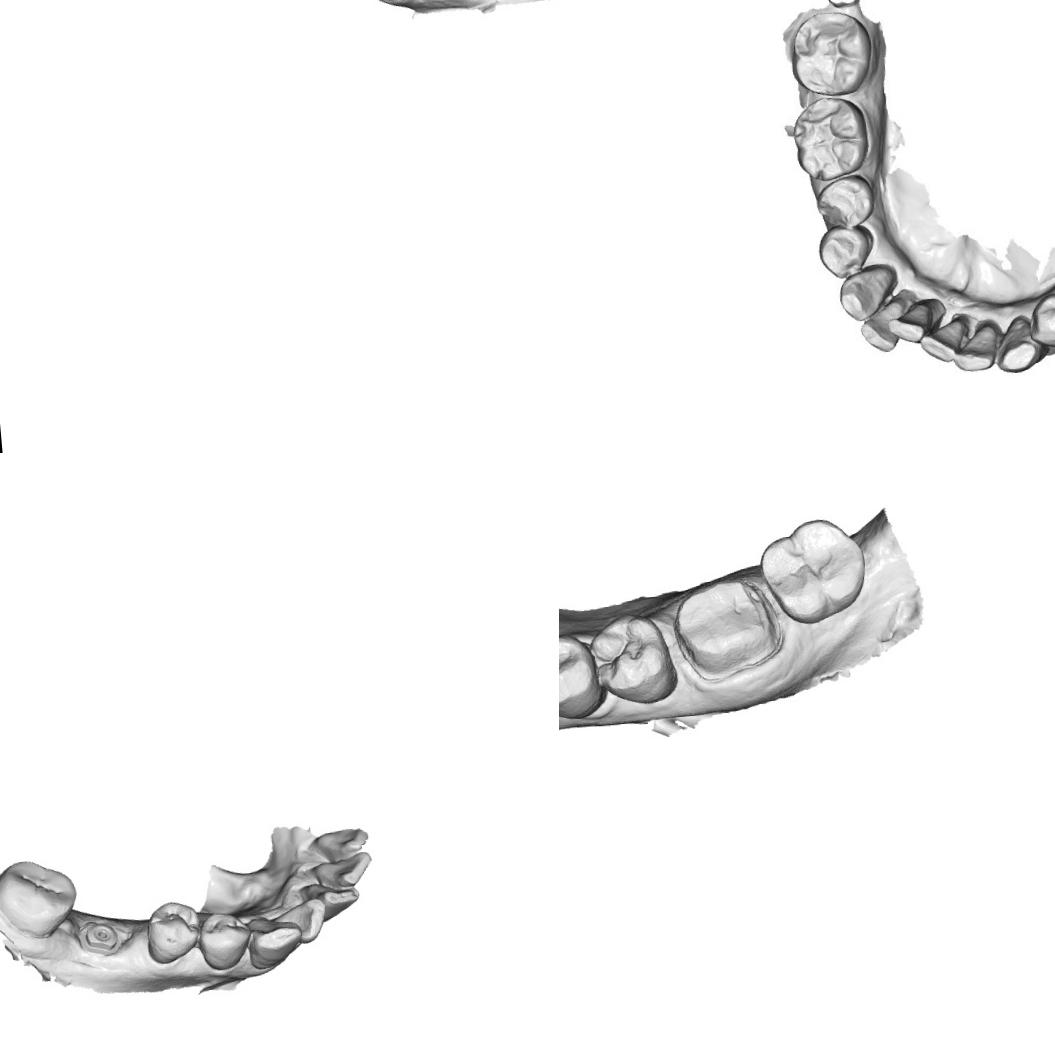canine: (833, 265, 897, 324), (243, 908, 299, 970), (993, 309, 1045, 374)
crown: (666, 572, 780, 680)
implant: (75, 915, 122, 956)
incisor: (306, 851, 381, 894), (914, 314, 970, 368), (272, 896, 330, 945), (950, 322, 1000, 376), (299, 880, 360, 923), (856, 302, 903, 356), (890, 300, 942, 343), (310, 826, 370, 856)
molar: (754, 512, 872, 628), (788, 5, 876, 100), (788, 92, 871, 184), (0, 853, 82, 943)
premolar: (586, 608, 682, 710), (140, 895, 205, 968), (559, 629, 603, 722), (812, 172, 877, 232), (196, 908, 251, 974), (815, 225, 878, 278), (1024, 289, 1055, 352)
